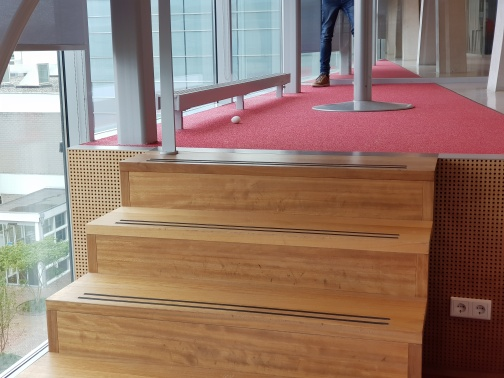egg: (229, 114, 243, 124)
